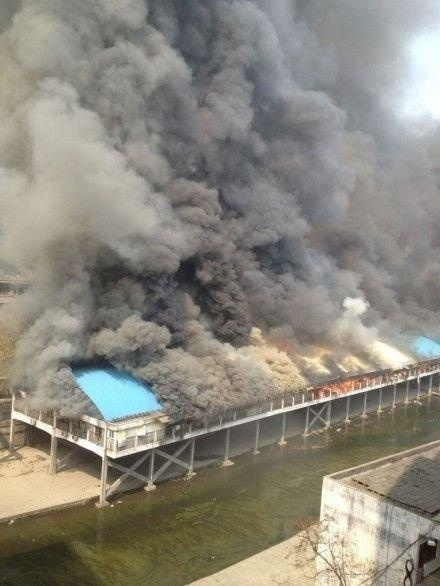fire: (315, 372, 366, 395)
